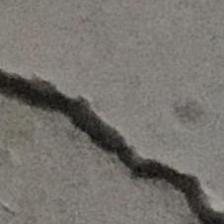Crack: (6, 12, 224, 224)
